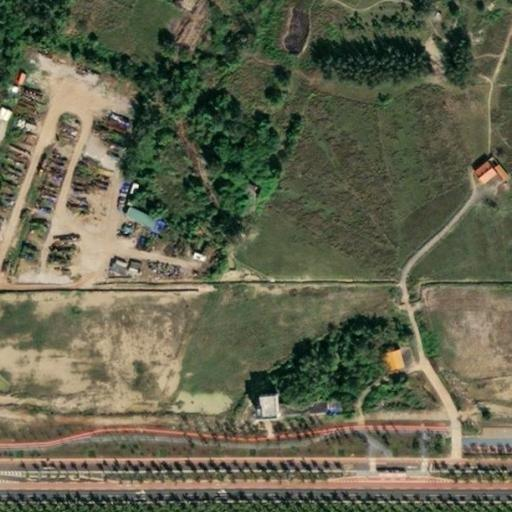building: (114, 206, 151, 232), (466, 158, 499, 184), (375, 352, 397, 374), (256, 395, 276, 419), (102, 128, 115, 143), (44, 252, 65, 261), (0, 262, 10, 271)
